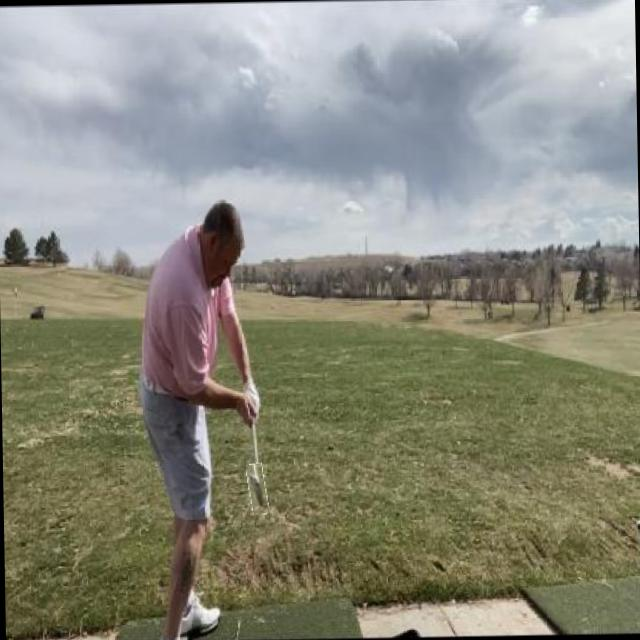club head: (246, 463, 268, 514)
